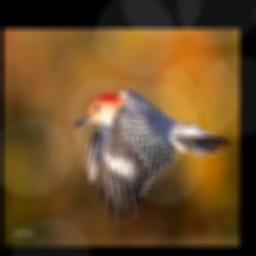Woodpecker: (72, 88, 232, 223)
